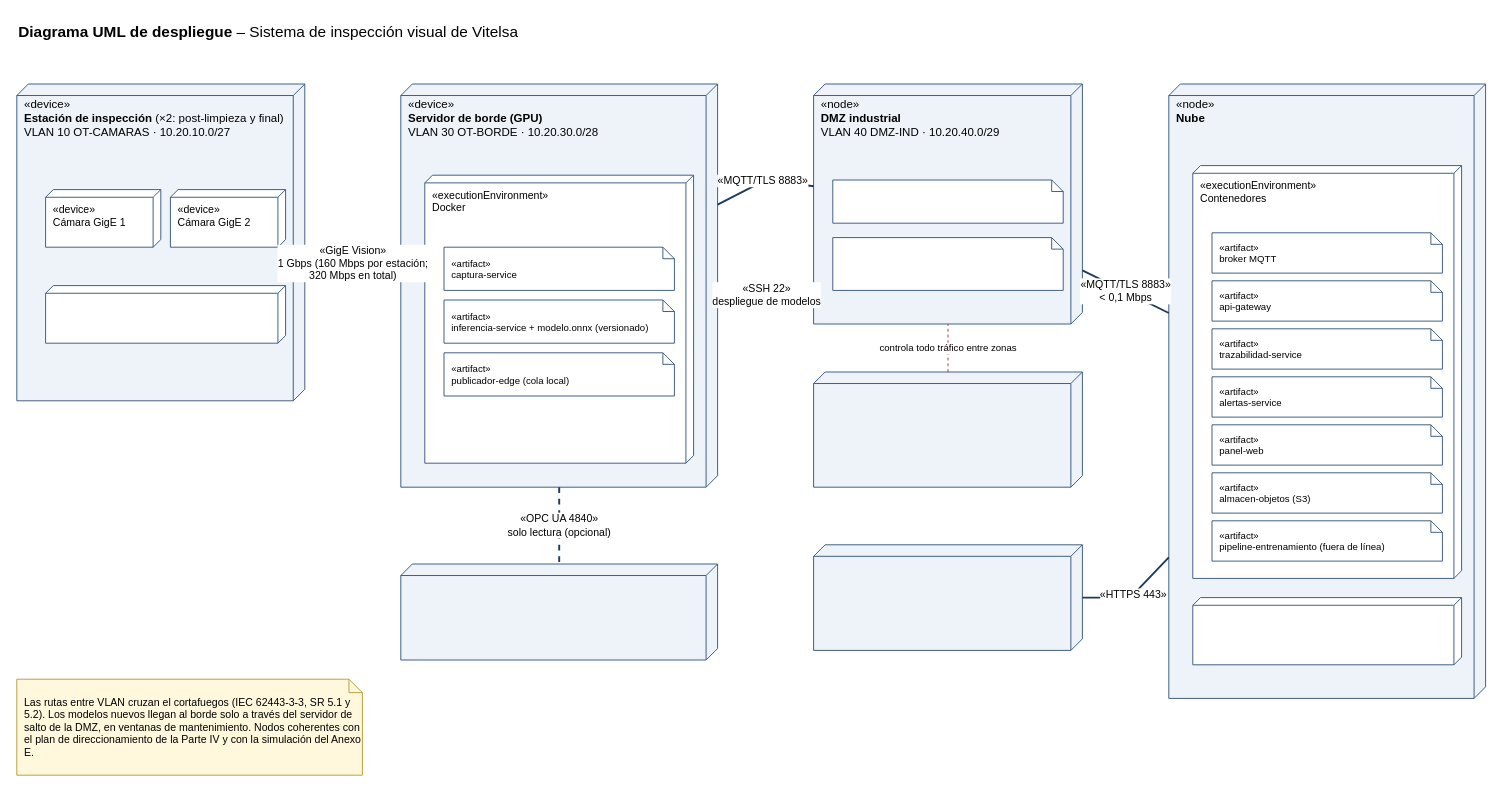
The diagram is 1502 pixels wide and 792 high, and some of its shapes have lost their labels. Each missing label, with the centre of its shape:
«artifact» mosquitto-bridge (relé MQTT · 10.20.40.2): (947,201)
«artifact» servidor-salto: bastión SSH, syslog, réplica de modelos (10.20.40.3): (947,263)
«device» Conmutador PoE+: (165,314)
«device» Cortafuegos NGFW Denegación por defecto: (947,429)
«device» Estación de trabajo VLAN 50 CORPORATIVA · navegador: (947,597)
«device» PLC / HMI del horno VLAN 20 OT-CONTROL (existentes): (559,611)
«node» PostgreSQL: (1327,631)
